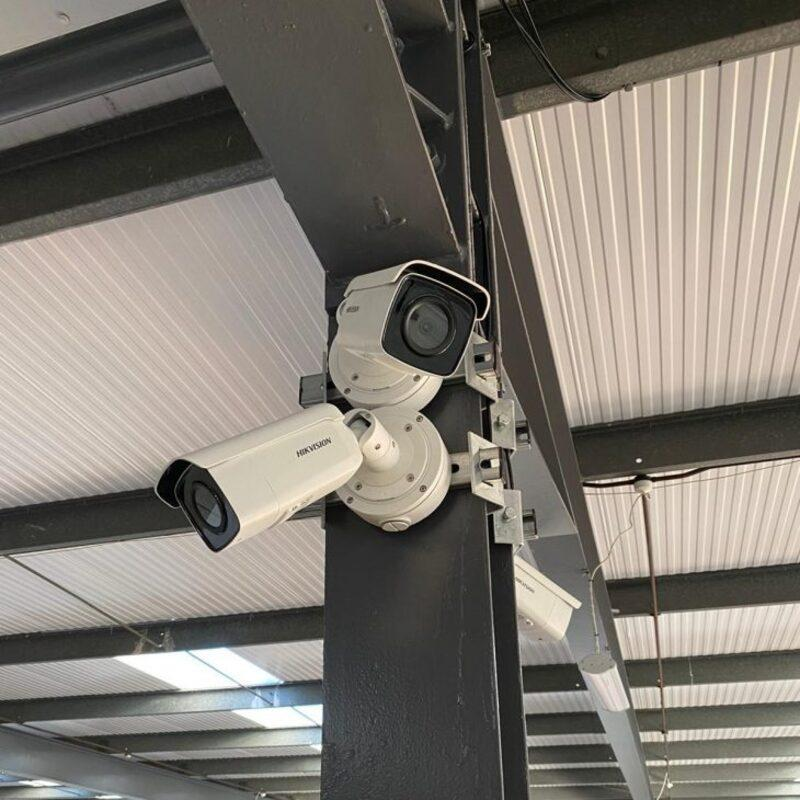bullet: (155, 404, 363, 552), (334, 261, 501, 379)
